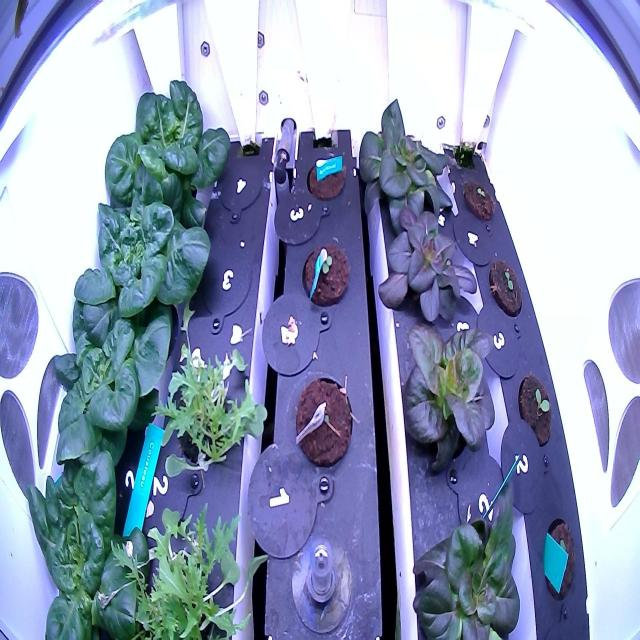empty_pod: (190, 238, 255, 339), (216, 154, 264, 224)
germination: (296, 238, 352, 310), (514, 367, 558, 450), (484, 253, 528, 323), (459, 170, 500, 230)
pod: (42, 270, 181, 484), (20, 427, 156, 638), (66, 154, 216, 339), (87, 66, 234, 254), (406, 466, 530, 639), (396, 304, 500, 496), (368, 194, 488, 331), (352, 91, 460, 238), (290, 364, 358, 478), (538, 511, 579, 607), (305, 149, 348, 207)
